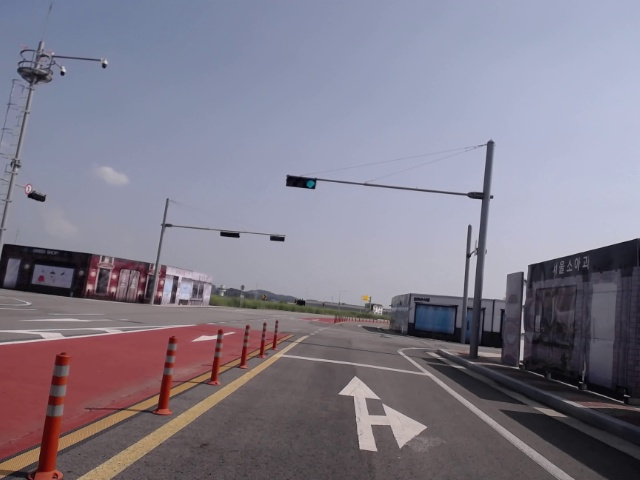green_3: (286, 175, 316, 190)
